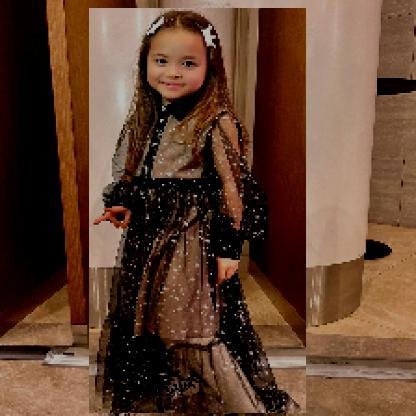child: (90, 9, 308, 415)
